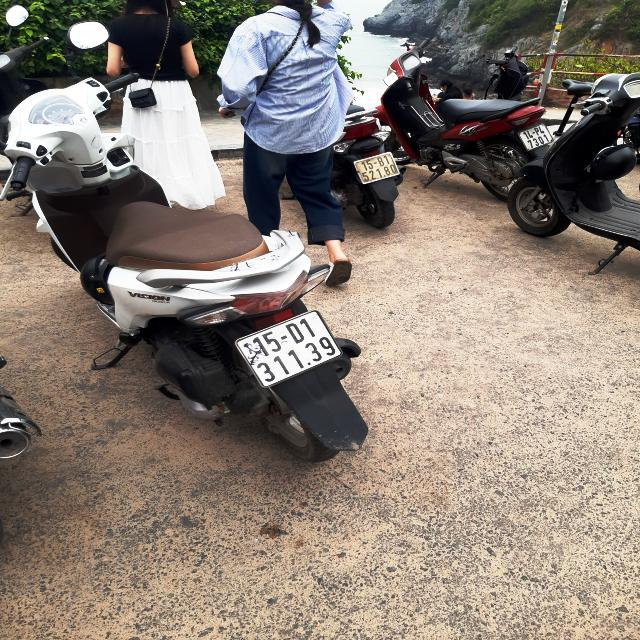license_plate: (226, 306, 349, 395), (352, 150, 405, 188), (515, 121, 558, 154)
